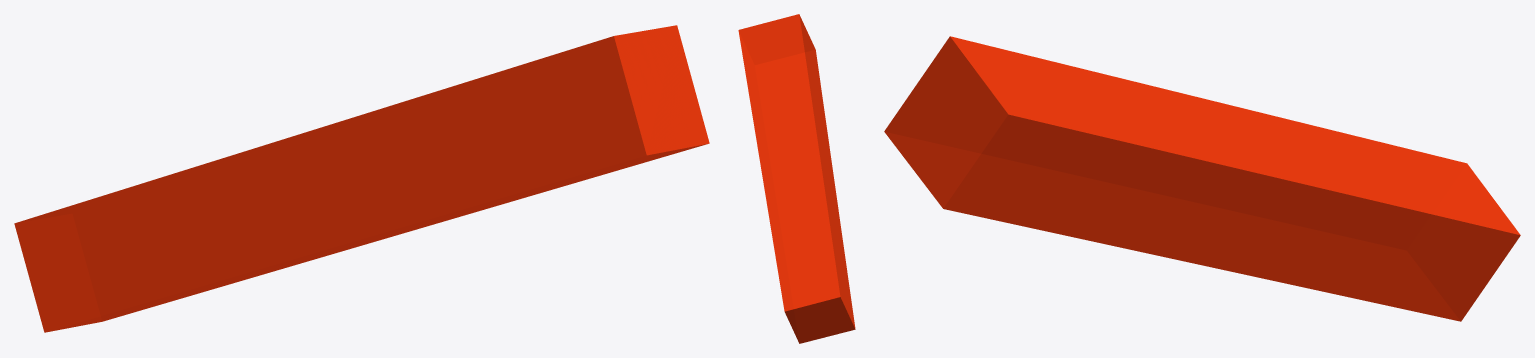
The model's file is Event_421115418_EBrechit_24.fbx.
The picture shows the model from 3 angles, left to right: view 1: azimuth 30°, elevation 25°; view 2: azimuth 150°, elevation 25°; view 3: azimuth 270°, elevation 25°; orthographic projection. The views are drawn at different scales.
Parts seen in each view (by area): view 1: Model; view 2: Model; view 3: Model.
Boxes of the visible parts, <box> form: Model: <box>14,25,709,332</box>; Model: <box>738,14,855,343</box>; Model: <box>884,36,1520,321</box>.
Bounding box in the file's own units: 0.2462 × 0.2227 × 0.3131.
